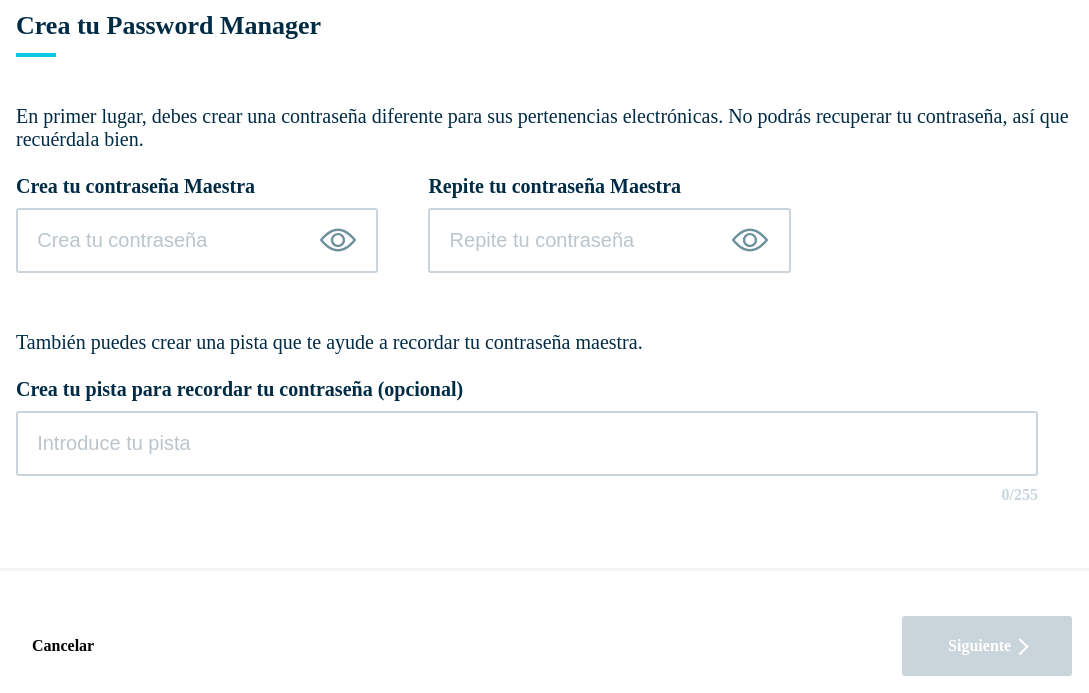
Test: Password management form › Should render input error message and button disabled when the password is invalid.
Type "abc" into the password field labelled "Crea tu contraseña Maestra" at coordinates (197, 240), box 16,208 -> 378,273
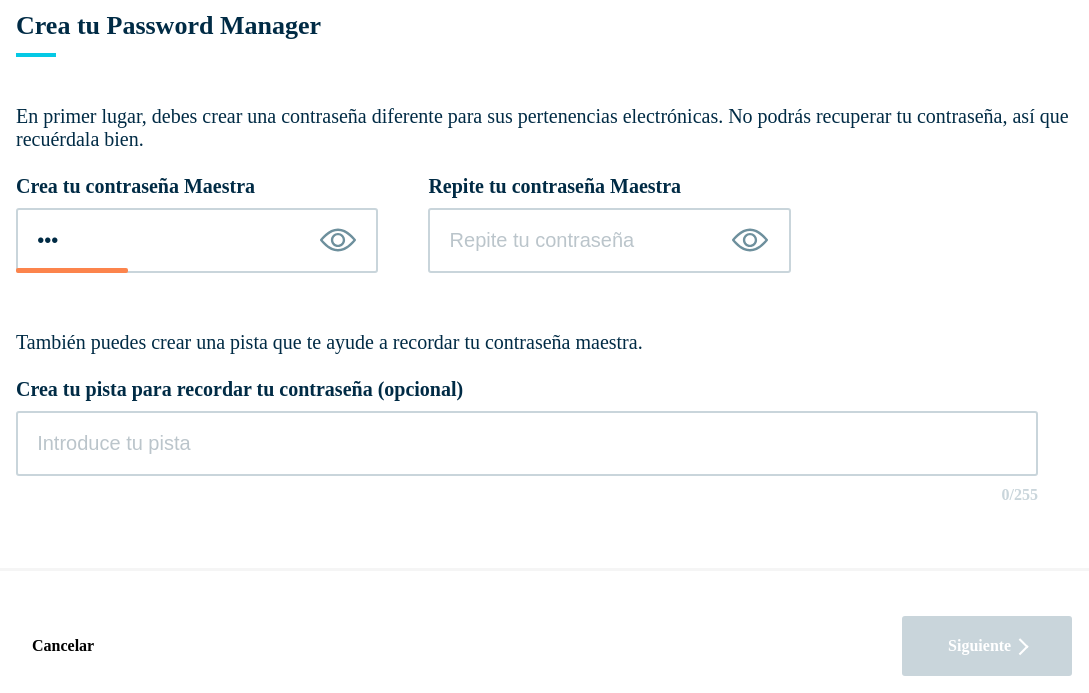
Leave the password field labelled "Crea tu contraseña Maestra", box 16,208 -> 378,273
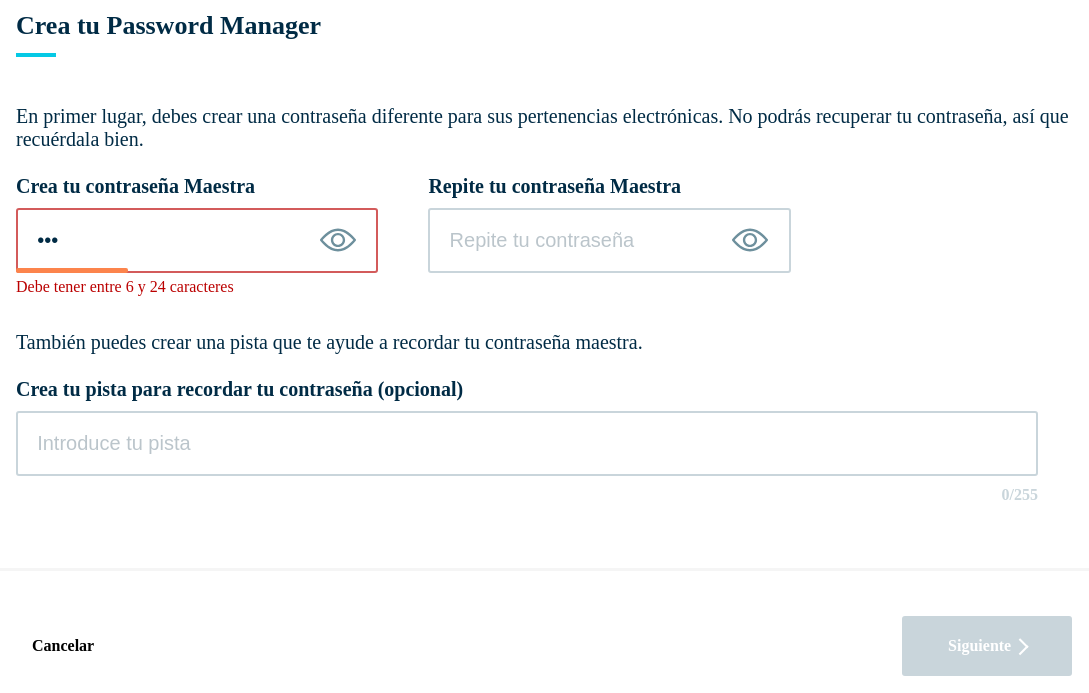
Expected: the button "Siguiente" is disabled, 902,616 -> 1072,676
Expected: the text "Debe tener entre 6 y 24 caracteres" is shown, 16,278 -> 234,296
